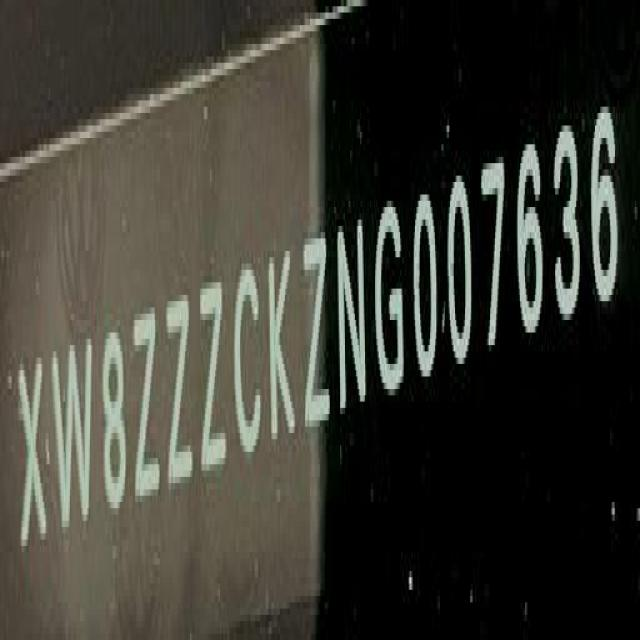0: (446, 166, 474, 379), (413, 184, 440, 393)
3: (552, 112, 580, 336)
6: (591, 94, 623, 317), (518, 132, 546, 350)
7: (480, 148, 506, 368)
8: (102, 320, 127, 524)
C: (232, 258, 262, 469)
G: (378, 196, 408, 410)
K: (270, 237, 296, 457)
N: (338, 202, 369, 426)
W: (53, 331, 93, 544)
X: (17, 346, 46, 562)
Z: (304, 219, 333, 443), (166, 286, 196, 500), (135, 299, 162, 514), (203, 272, 229, 486)
